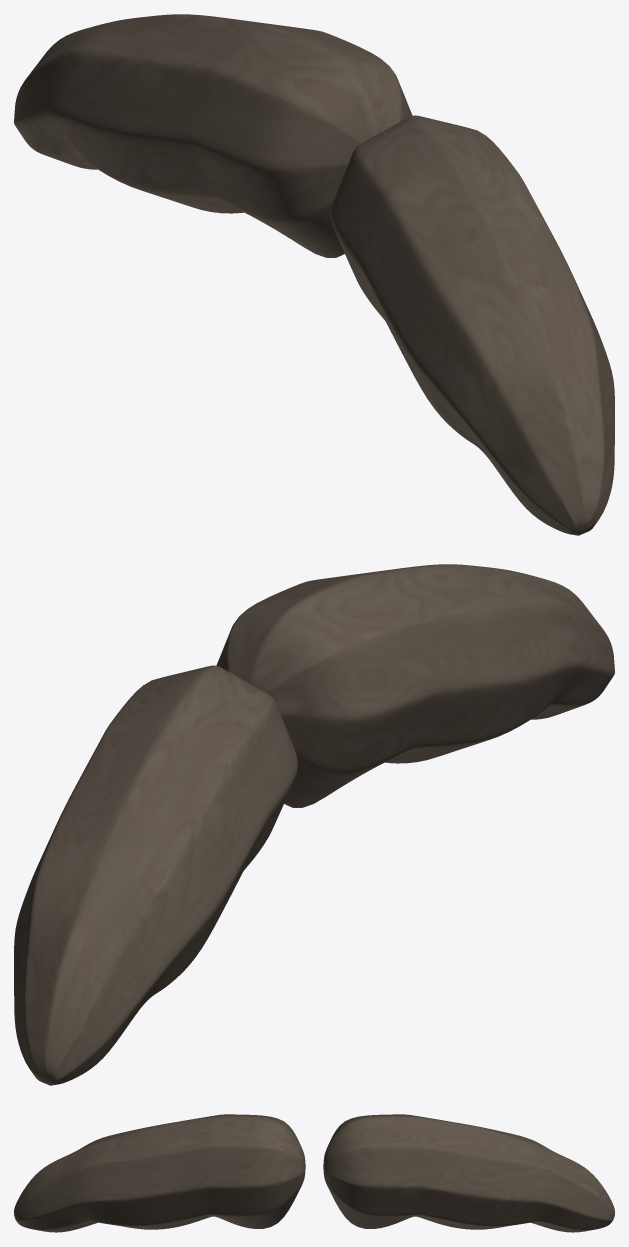
Rendered from Moustache.fbx.
The picture shows the model from 3 angles, top to bottom: view 1: azimuth 30°, elevation 25°; view 2: azimuth 150°, elevation 25°; view 3: azimuth 270°, elevation 25°; orthographic projection. The views are drawn at different scales.
Parts seen in each view (by area): view 1: Moustache; view 2: Moustache; view 3: Moustache.
Boxes of the visible parts, x1,y1,x2,y2 form: Moustache: (14, 14, 614, 535); Moustache: (14, 564, 614, 1085); Moustache: (14, 1114, 614, 1232).
Size of the model in its own units: 23.83 by 27.13 by 114.
Materials: 1 (1 with a texture image).
